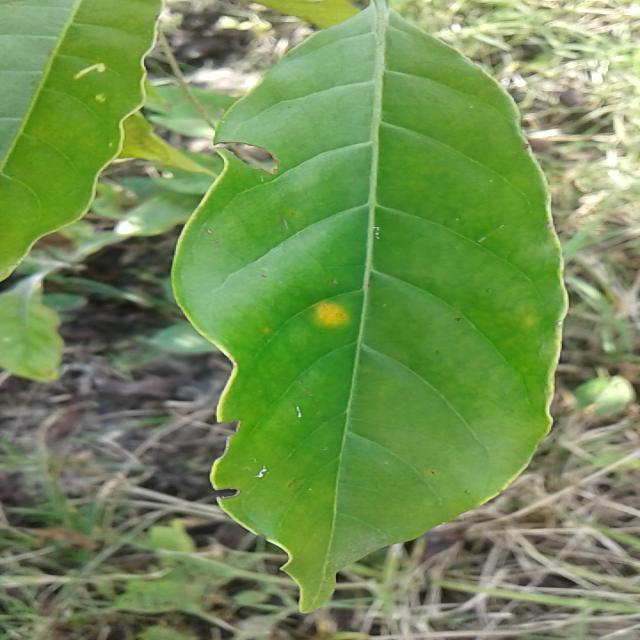Enfermedad-Roya: (168, 4, 568, 616)
